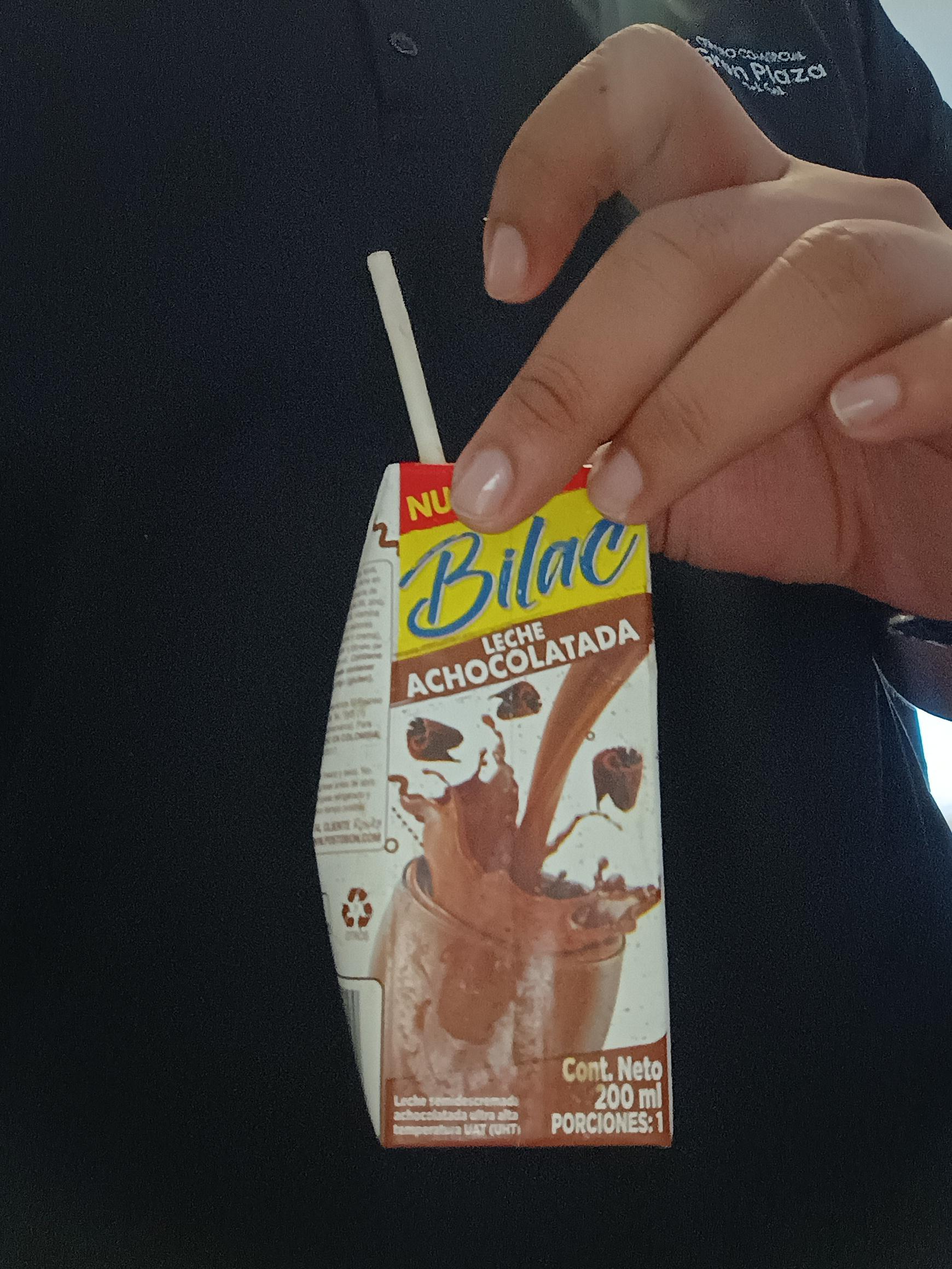Carton: (310, 460, 674, 1147)
